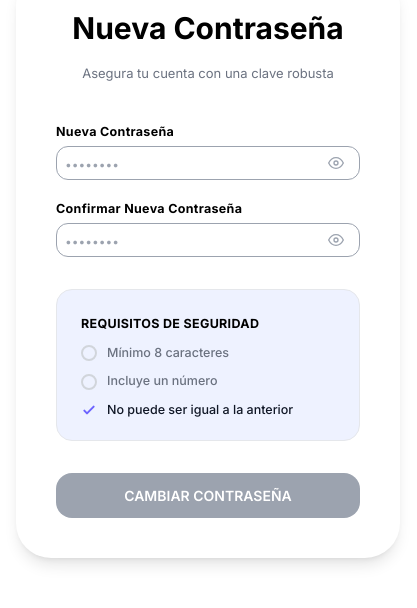
Test: NewPasswordForm › muestra error cuando las contraseñas no coinciden
In the 1st password field with placeholder "••••••••": (208, 163) [56,146,360,180], type "abcd1234"
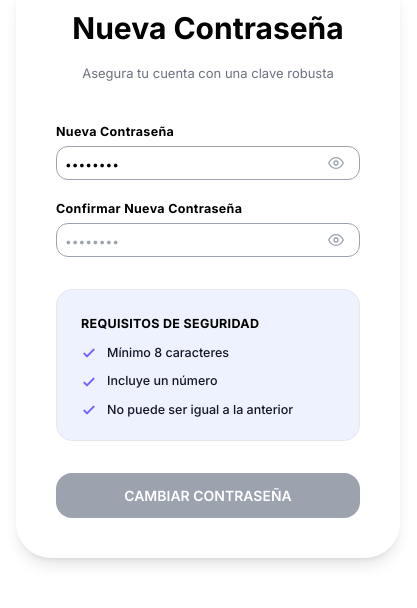
In the password field with placeholder "••••••••": (208, 240) [56,222,360,256], type "abcd1235"
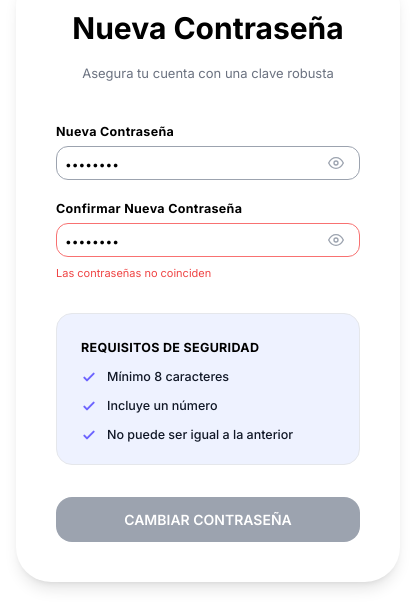
Result: the text "Las contraseñas no coinciden" is shown at [56,266,211,280]
